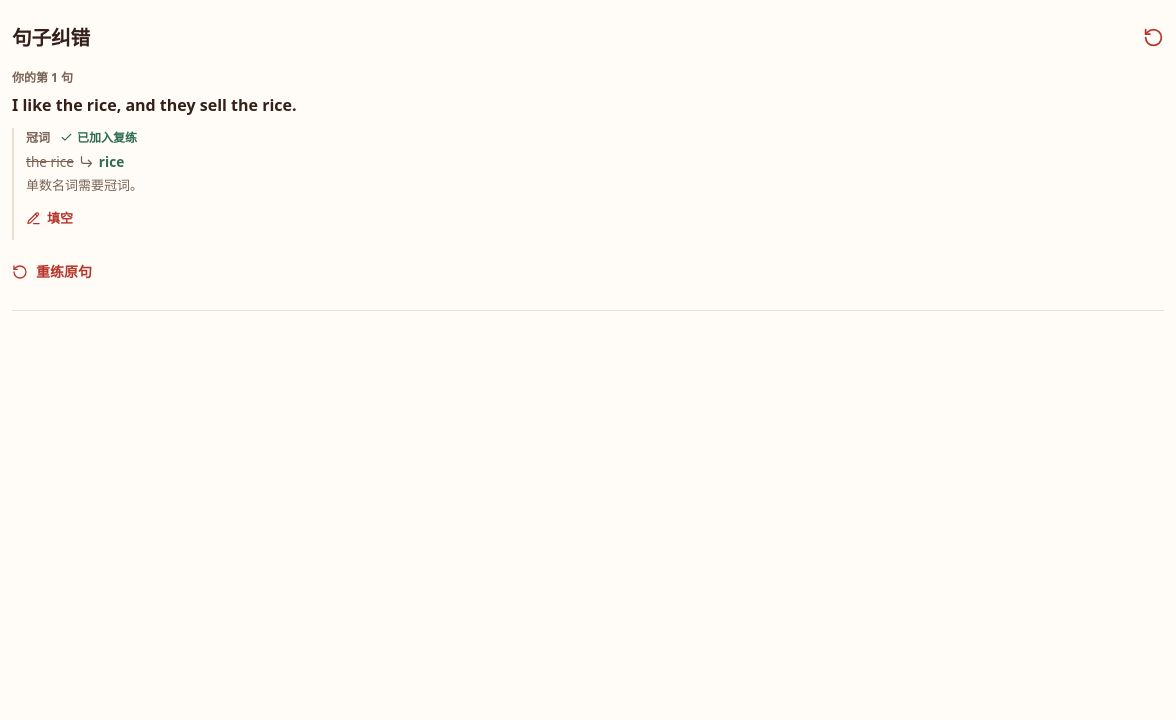
Test case: uses the saved fragment when its occurrence is ambiguous and supports an intentional empty answer
The image size is (1176, 720).
Click the button "填空" at point(50, 218), box [26,196,73,240]
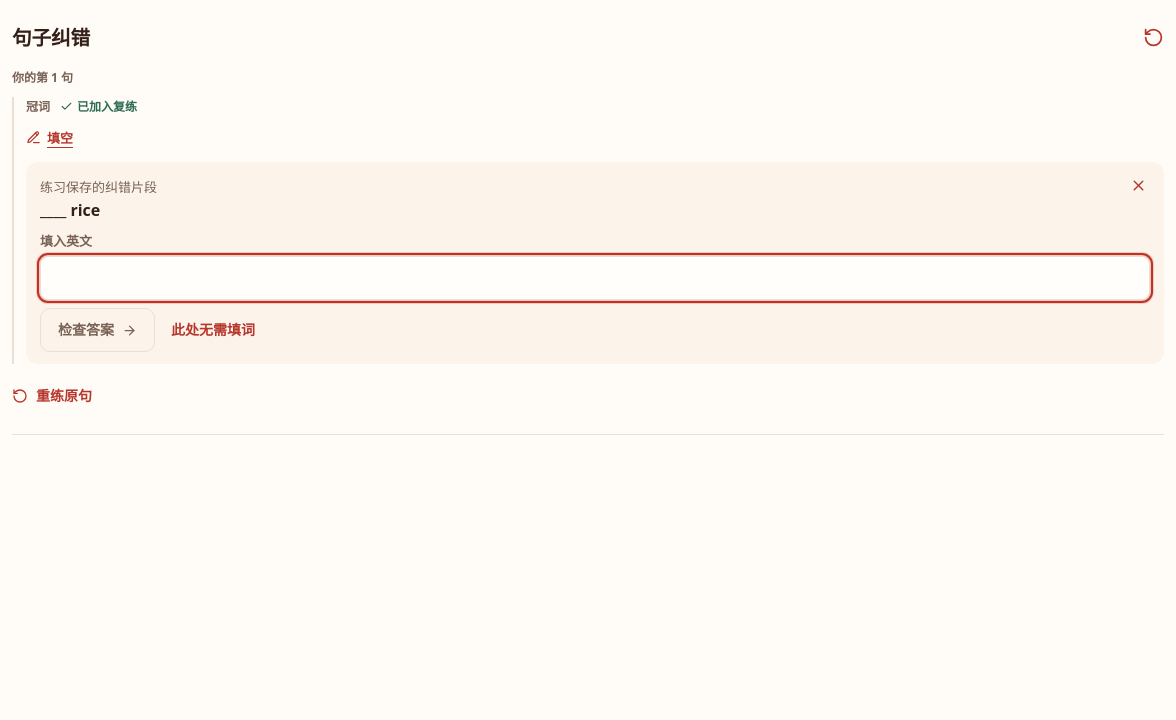
Check: the text "____ rice" is shown, box [40,199,100,221]
Type "the" into the field at point(595, 278), box [40,256,1150,300]
Then press Enter
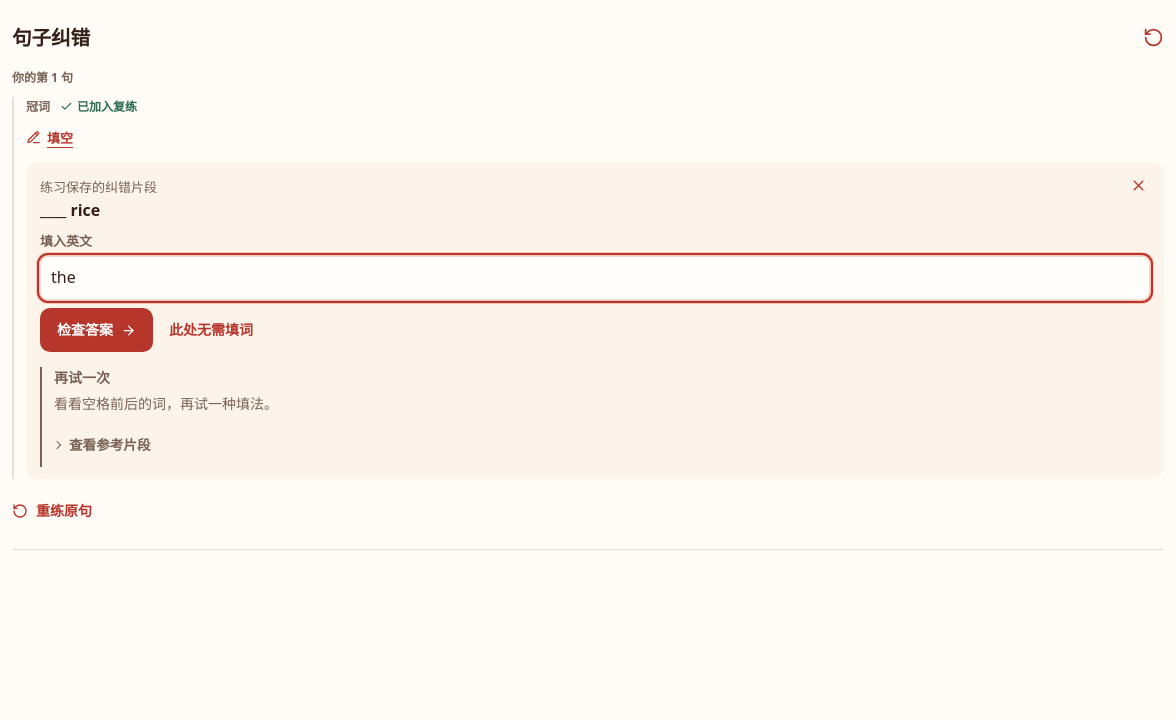
Check: the message shows "再试一次", box [54,368,110,387]
Click the button "此处无需填词" at point(211, 330), box [169,308,253,352]
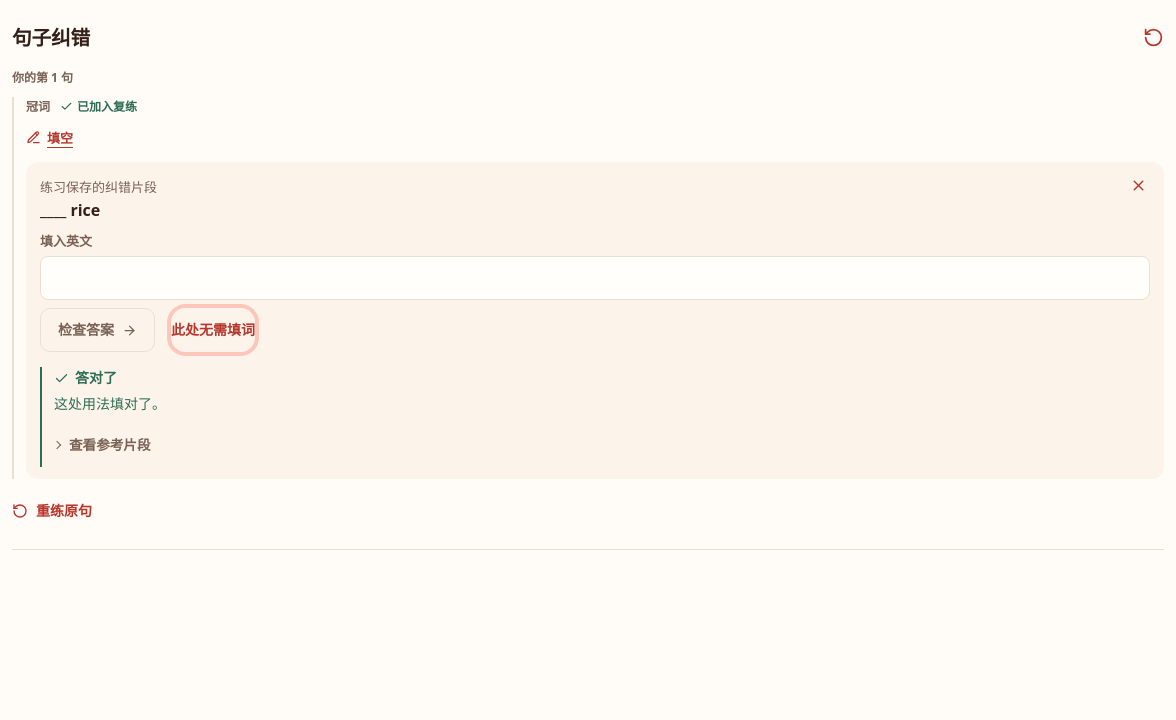
Check: the message shows "答对了", box [75,368,117,387]
Click the heading "查看参考片段" at point(102, 445), box [54,423,151,467]
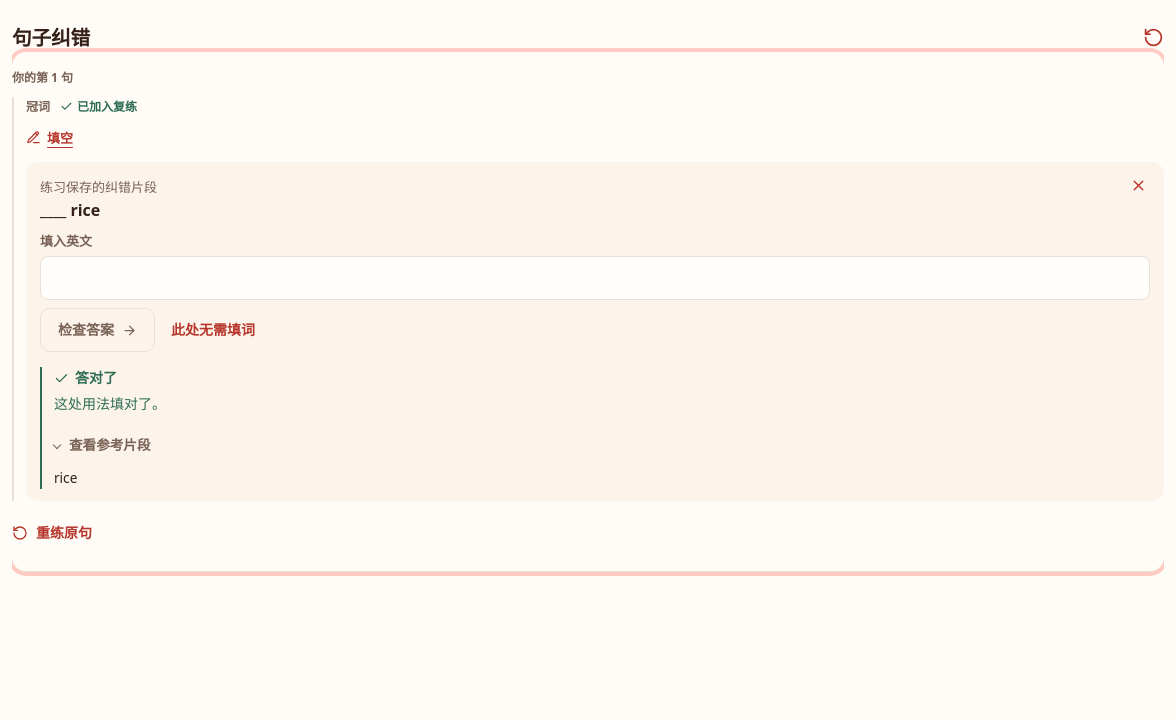
Check: the text "rice" is shown, box [54,468,77,487]
